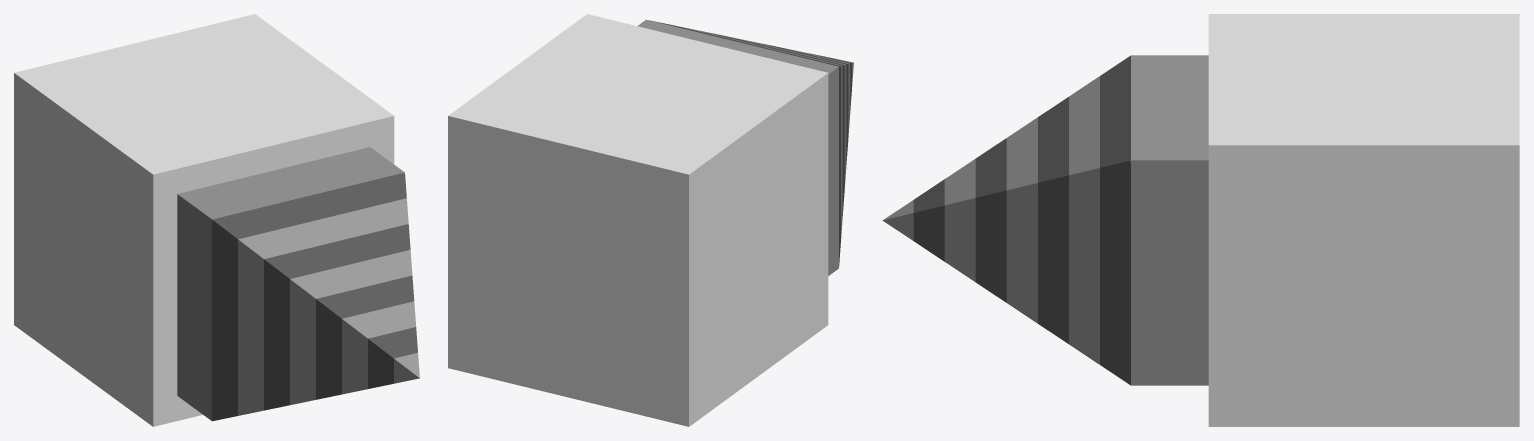
File: enemyWeaponSG01.obj
3 renders of one model, left to right at view 1: azimuth 30°, elevation 25°; view 2: azimuth 150°, elevation 25°; view 3: azimuth 270°, elevation 25°, orthographic. The views are drawn at different scales.
Parts seen in each view (by area): view 1: 小型近接敵武器; view 2: 小型近接敵武器; view 3: 小型近接敵武器.
Boxes of the visible parts, box(x1,y1,x2,y2) form: 小型近接敵武器: box(14, 14, 419, 426); 小型近接敵武器: box(448, 14, 853, 426); 小型近接敵武器: box(882, 14, 1519, 426).
Bounding box in the file's own units: 0.5625 × 0.5625 × 1.15.
Materials: 1 (1 with a texture image).
